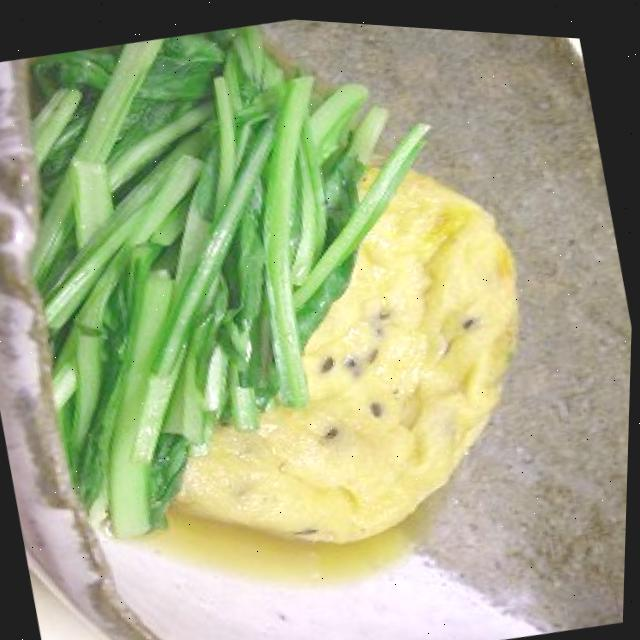熟制海鲜: (75, 43, 631, 624)
